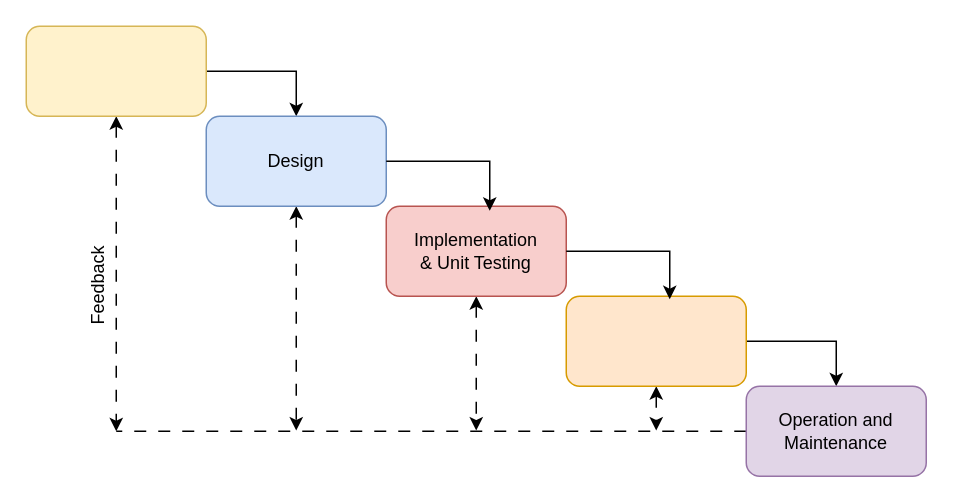
This 953x503 diagram has some shape labels left out. The box of each missing label's shape, as (x1, y1, x2, y2) in pixels:
Requirement Analisys: (25, 25, 206, 116)
Testing: (565, 295, 746, 386)
